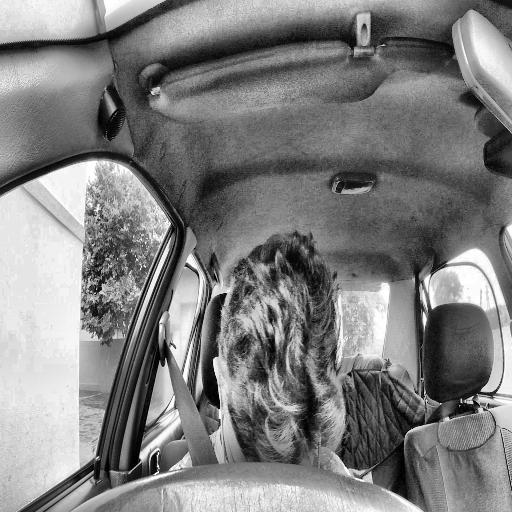drowsy: (211, 229, 345, 493)
